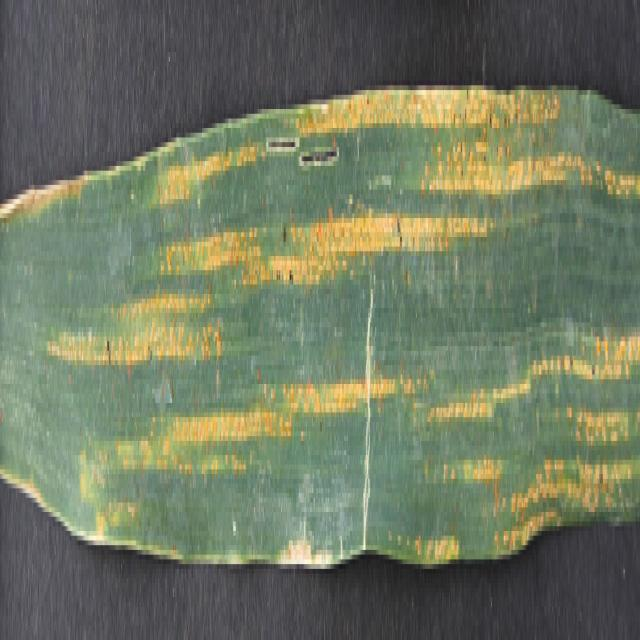leaf rust: (42, 81, 640, 550)
